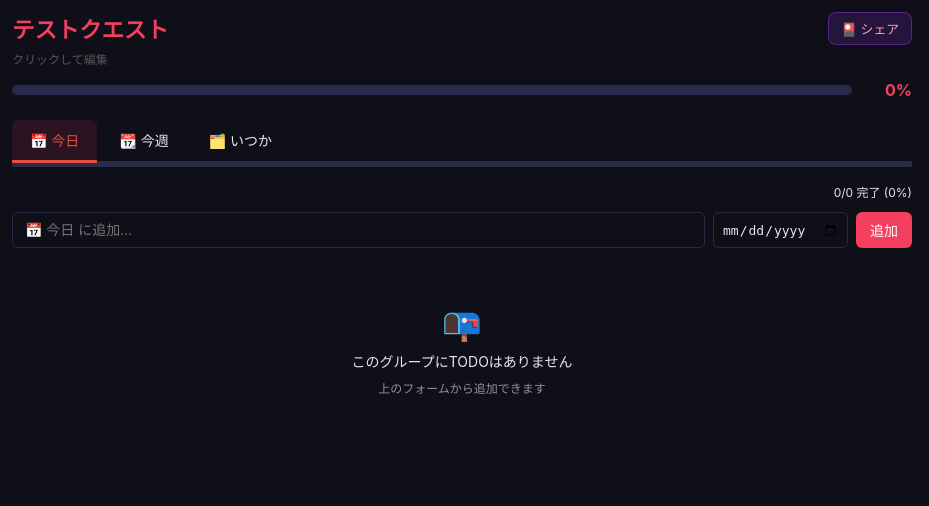
Scenario: QuestDetail › タイトルをクリックすると編集モードになる
Click the heading "テストクエスト".
click(90, 30)  # box top-left (12, 16), bottom-right (169, 43)
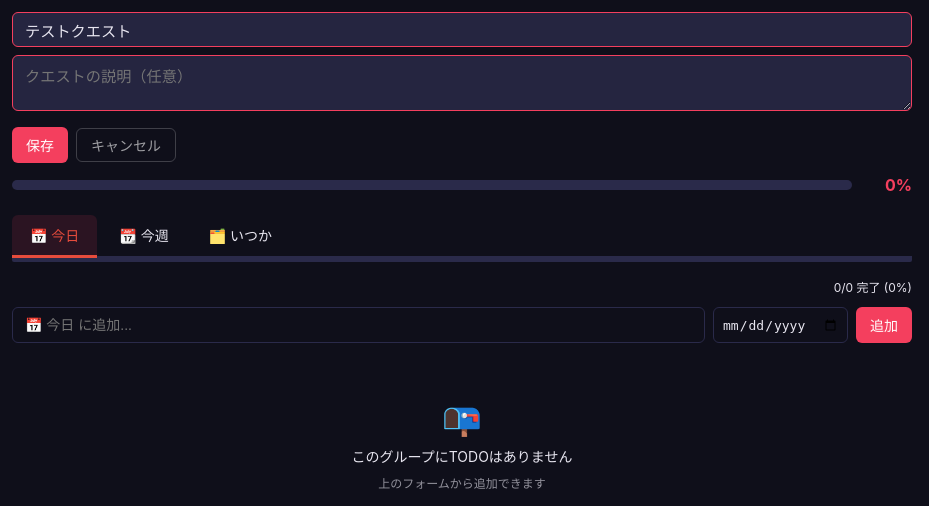
expect the field showing "テストクエスト" is shown: met, box top-left (12, 12), bottom-right (912, 47)
expect the button "保存" is shown: met, box top-left (12, 127), bottom-right (68, 163)
expect the button "キャンセル" is shown: met, box top-left (76, 128), bottom-right (176, 162)
